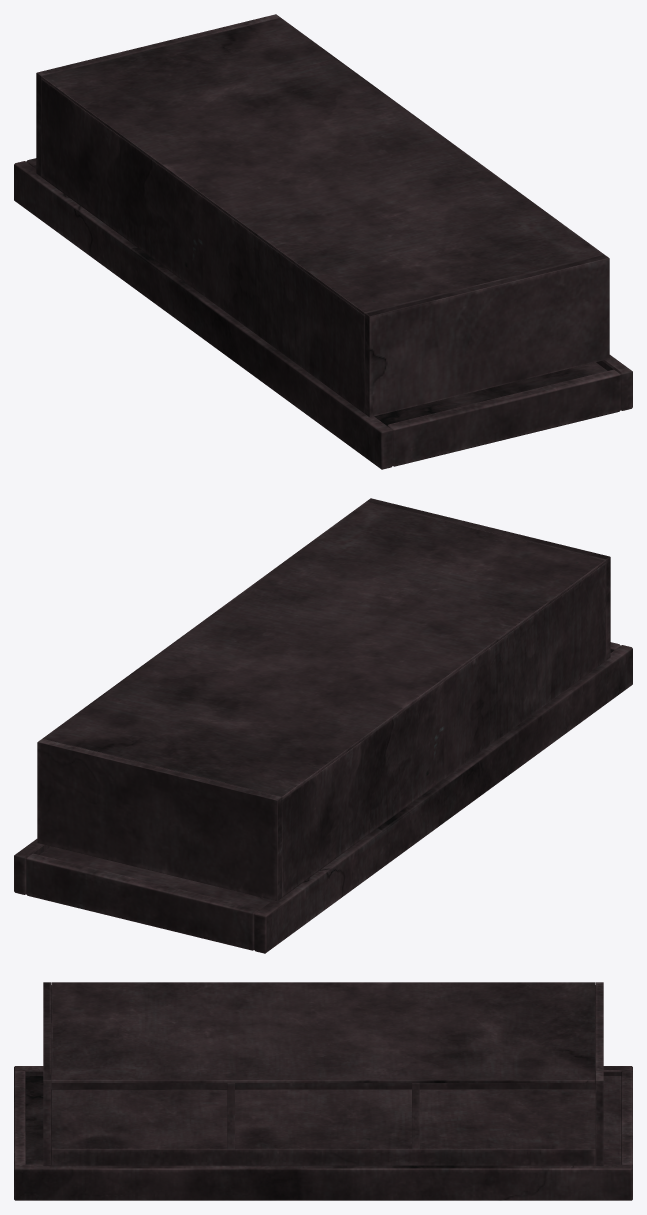
File: SM_Tray_Shelf.fbx
3 renders of one model, top to bottom at view 1: azimuth 30°, elevation 25°; view 2: azimuth 150°, elevation 25°; view 3: azimuth 270°, elevation 25°, orthographic. The views are drawn at different scales.
Visible parts, largest first — view 1: SM_Tray_Shelf_LOD0; view 2: SM_Tray_Shelf_LOD0; view 3: SM_Tray_Shelf_LOD0.
Boxes of the visible parts, x1,y1,x2,y2 form: SM_Tray_Shelf_LOD0: [14, 14, 632, 469]; SM_Tray_Shelf_LOD0: [14, 498, 632, 953]; SM_Tray_Shelf_LOD0: [14, 982, 632, 1200].
Size of the model in its own units: 33.16 by 83.76 by 17.57.
1 material, 1 textured.
